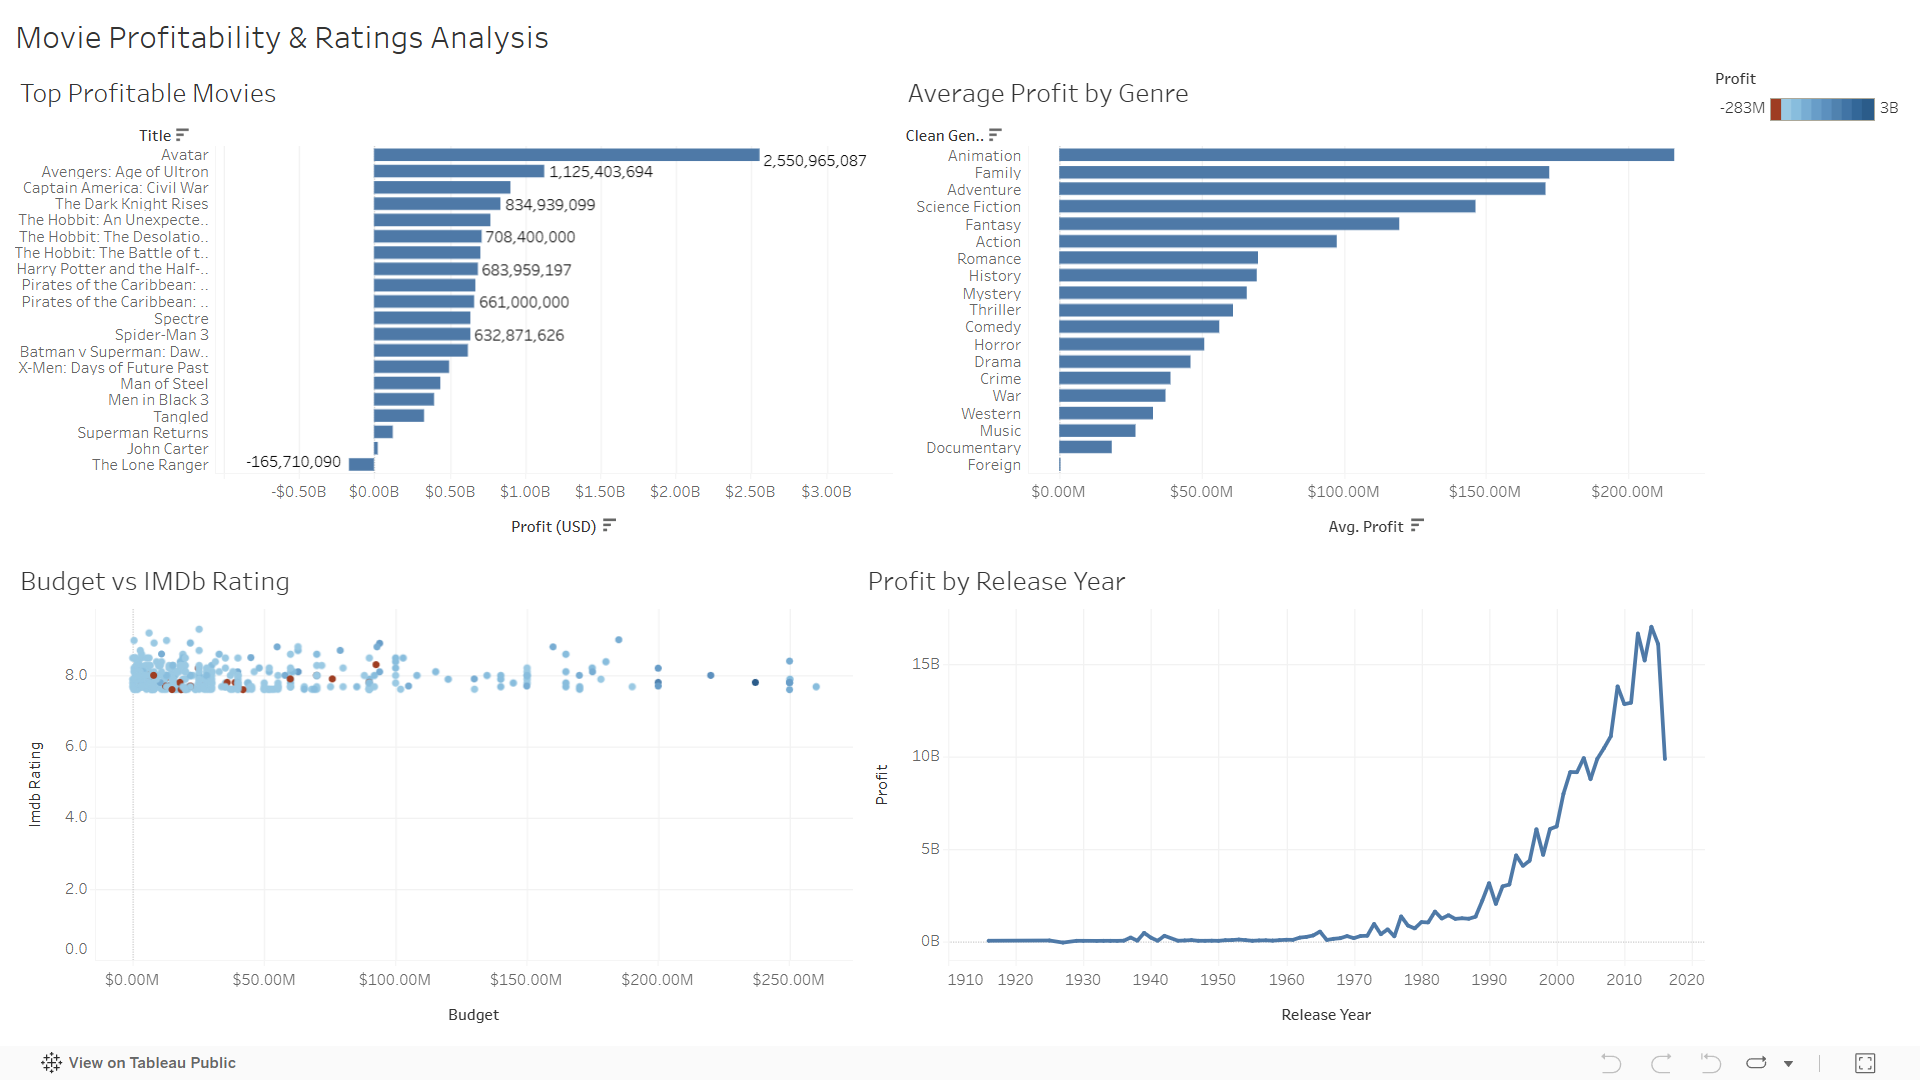

Layout of this report page (visuals, bound fields, positions):
{"tool":"tableau","page":{"name":"Movie Profitability & Ratings Analysis","canvas":[1000,1000],"units":"permille","ordinal":0},"visuals":[{"type":"title","box":[4.8,10,990.3,62.4]},{"type":"worksheet","title":"Top Profitable Movies","mark":"Automatic","rows":["title"],"cols":["profit"],"box":[4.8,72.4,459,458.8]},{"type":"worksheet","title":"Average Profit by Genre","mark":"Automatic","rows":["Calculation_0794702612365316"],"cols":["profit"],"box":[463.8,72.4,434.8,458.8]},{"type":"legend","title":"Budget vs IMDb Rating","param":"[federated.0plcdhv1alrjbu12lio7v199fiom].[sum:profit:qk]","box":[898.6,72.4,96.6,91.1]},{"type":"worksheet","title":"Budget vs IMDb Rating","mark":"Circle","rows":["imdb_rating"],"cols":["budget"],"box":[4.8,531.2,445.1,458.8]},{"type":"worksheet","title":"Profit by Release Year","mark":"Line","rows":["profit"],"cols":["release_year"],"box":[449.9,531.2,448.7,458.8]}]}

Visuals, with their boxes on the dashboard's canvas, which has no fixed pixel size, in thousandths of its width and height (x1, y1, x2, y2). These are canvas units, not pixel positions in the 1920x1080 screenshot, which may show the page scaled, cropped or inside an application window:
title: select_region(5, 10, 995, 72)
"Top Profitable Movies" worksheet: select_region(5, 72, 464, 531)
"Average Profit by Genre" worksheet: select_region(464, 72, 899, 531)
"Budget vs IMDb Rating" legend: select_region(899, 72, 995, 164)
"Budget vs IMDb Rating" worksheet (Circle marks): select_region(5, 531, 450, 990)
"Profit by Release Year" worksheet (Line marks): select_region(450, 531, 899, 990)
